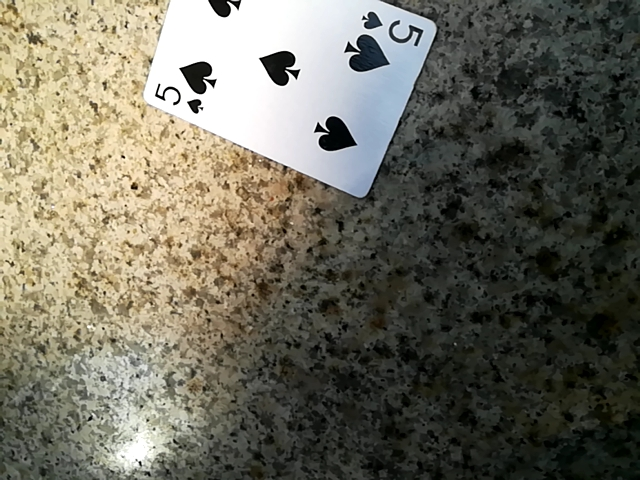ht 5: (141, 0, 433, 196)
